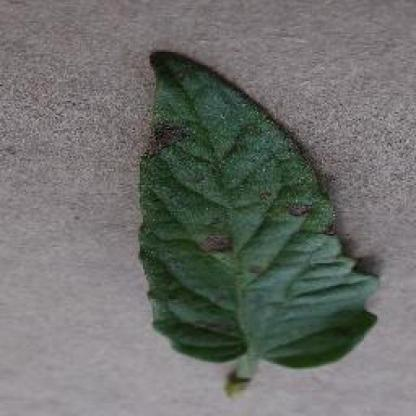Tomato_Blight: (138, 51, 382, 363)
